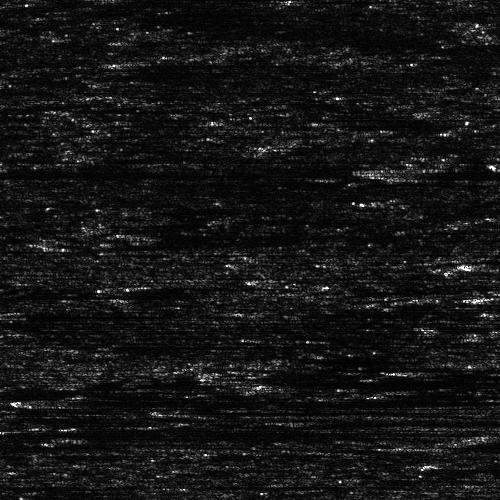object: (214, 368, 307, 393), (338, 165, 421, 178), (57, 58, 172, 67), (115, 229, 168, 240), (245, 142, 308, 149), (142, 408, 195, 415)
shadow: (0, 158, 377, 185), (0, 429, 411, 442), (261, 368, 436, 393), (142, 229, 479, 240), (0, 188, 96, 215), (169, 408, 423, 415), (115, 58, 272, 67), (380, 165, 467, 178), (0, 290, 147, 297), (276, 142, 360, 149), (0, 108, 50, 119)
